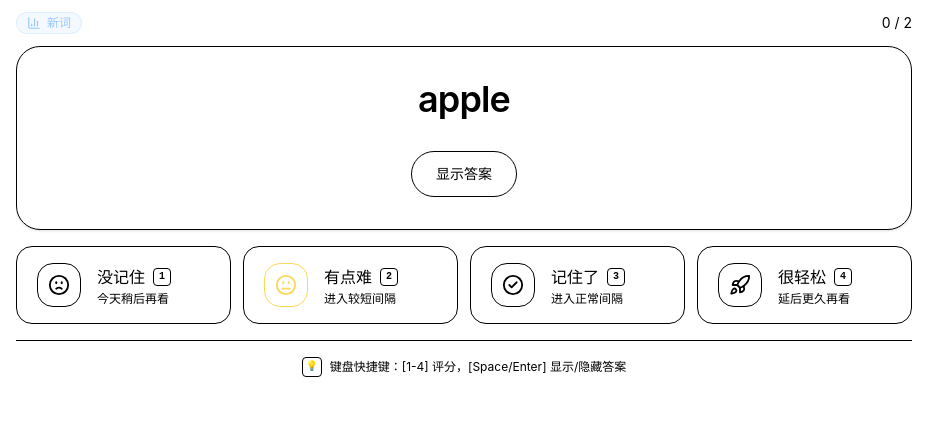
it: VocabTodayFocusWork › requeues the current card when FSRS asks to repeat today
The width and height of the screenshot is (929, 432).
Expected: the text "apple" is shown, 418,79 -> 510,119
Click the button "没记住 1 今天稍后再看".
click(124, 285)  # box 16,246 -> 231,324
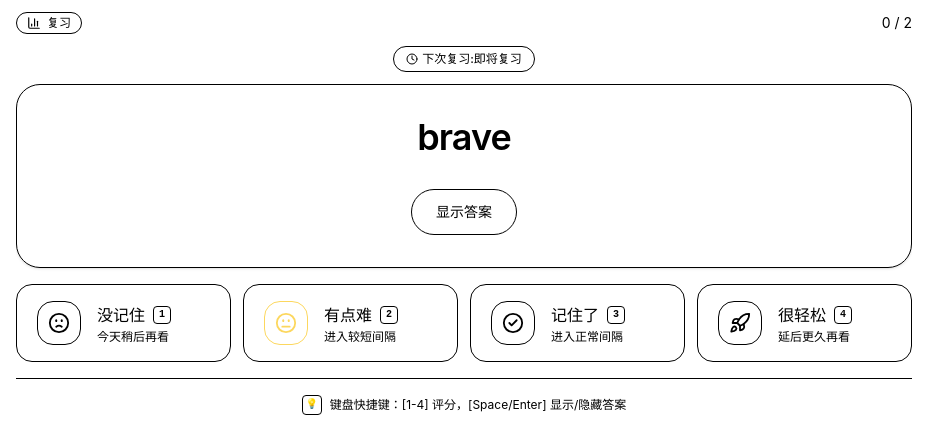
Expected: the text "0 / 2" is shown, 882,13 -> 912,33
Expected: the text "brave" is shown, 417,117 -> 511,157
